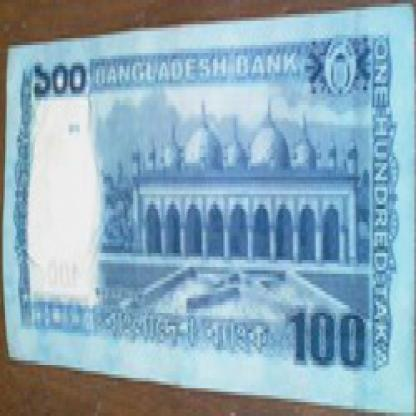one hundred taka: (290, 298, 371, 375), (33, 52, 88, 101)
